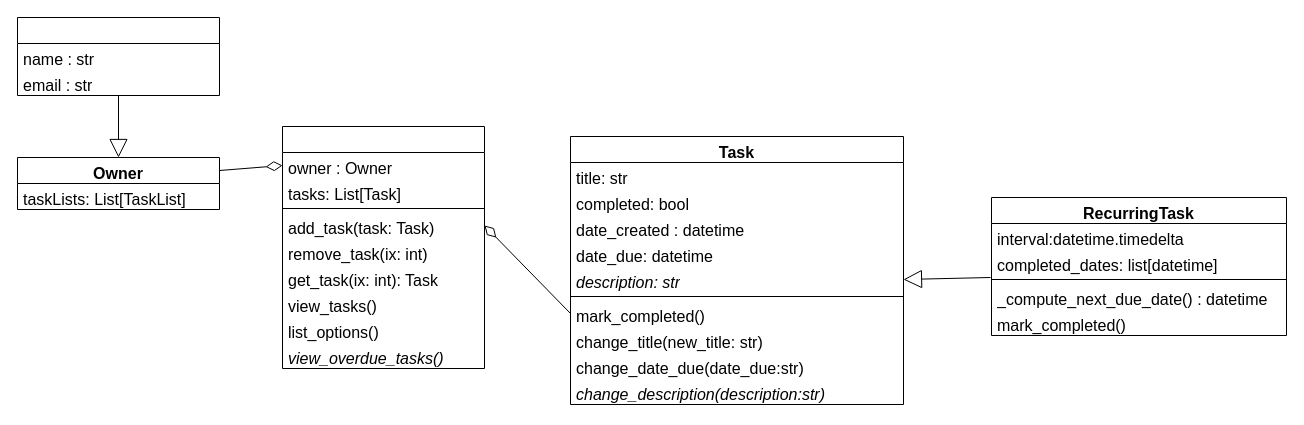
Some shapes in this 1304 by 425 pixel diagram are drawn without their labels. The shapes that lost their labels are listed below. From the top down, each one's box as (x1, y1, x2, y2) in pixels, then its label:
(16, 16, 220, 96): User
(282, 126, 484, 368): TaskList
